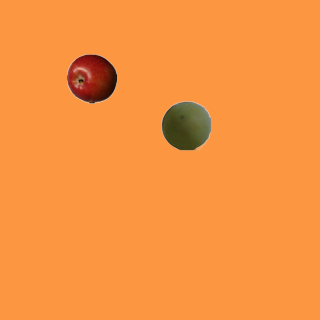Apple Braeburn: (66, 53, 116, 103)
Grape White 4: (160, 100, 210, 150)
